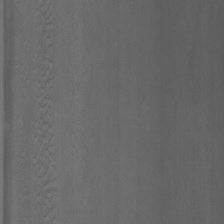silk_spot: (33, 15, 63, 212)
